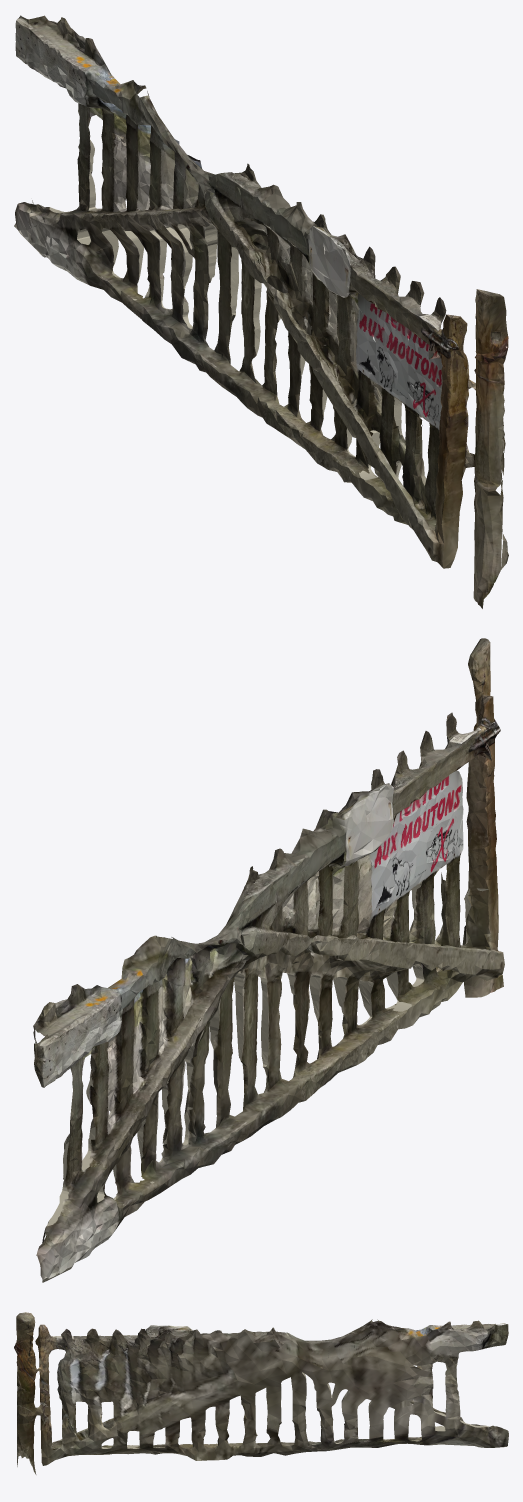
The model's file is S039_AttentionAuxMoutons.glb.
3 renders of one model, top to bottom at view 1: azimuth 30°, elevation 25°; view 2: azimuth 150°, elevation 25°; view 3: azimuth 270°, elevation 25°, orthographic. The views are drawn at different scales.
Parts seen in each view (by area): view 1: Mesh; view 2: Mesh; view 3: Mesh.
Part boxes in pixels (x1,y1,x2,y2): Mesh: (14, 15, 508, 608); Mesh: (33, 638, 504, 1282); Mesh: (14, 1312, 508, 1474).
Size of the model in its own units: 0.1659 by 0.867 by 2.25.
1 material, 1 textured.
